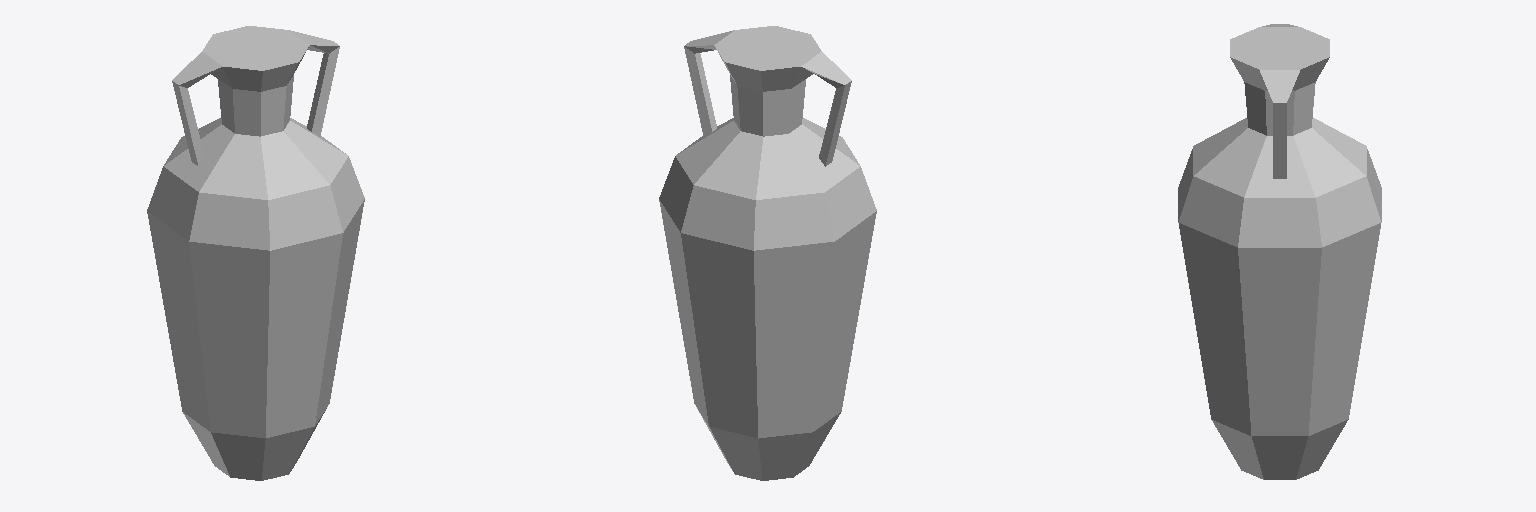
File: amphora.obj
The picture shows the model from 3 angles: view 1: azimuth 30°, elevation 25°; view 2: azimuth 150°, elevation 25°; view 3: azimuth 270°, elevation 25°; orthographic projection.
Visible parts, largest first — view 1: amphora_Cylinder.008; view 2: amphora_Cylinder.008; view 3: amphora_Cylinder.008.
Part boxes in pixels (x1,y1,x2,y2): amphora_Cylinder.008: (147,26,364,480); amphora_Cylinder.008: (659,26,876,480); amphora_Cylinder.008: (1178,24,1381,479).
Size of the model in its own units: 0.344 by 0.7762 by 0.344.